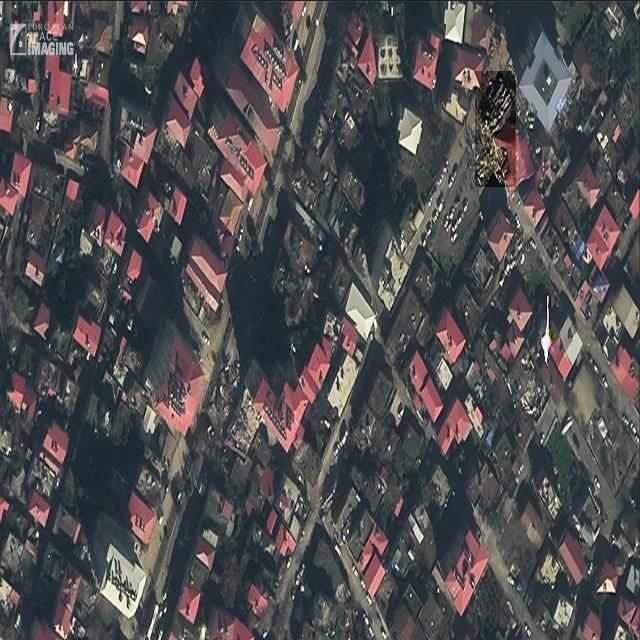Rubble: (475, 72, 516, 188)
